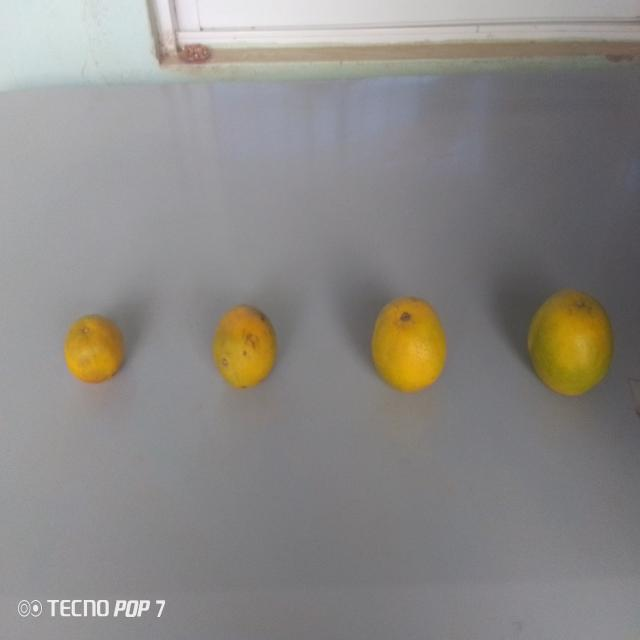Ripe orange: (518, 284, 620, 402), (365, 290, 450, 398), (217, 301, 282, 397), (61, 303, 128, 396)
